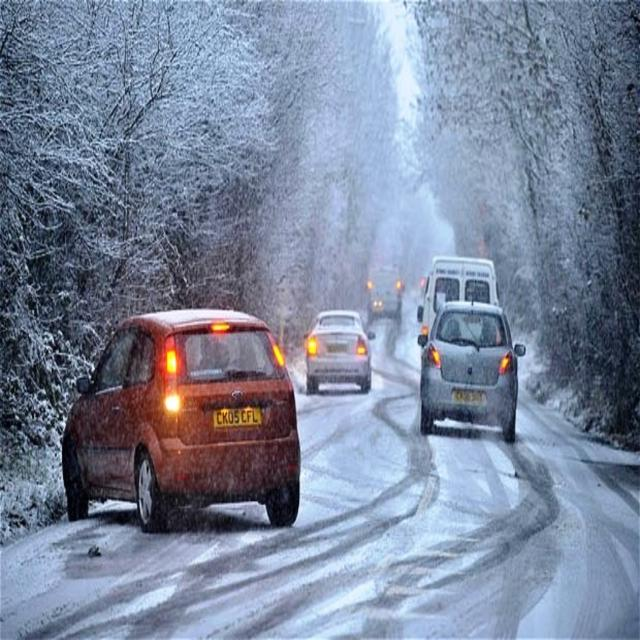car: (61, 306, 301, 531), (418, 301, 522, 440), (418, 255, 502, 347), (303, 312, 373, 394), (364, 264, 402, 326)
